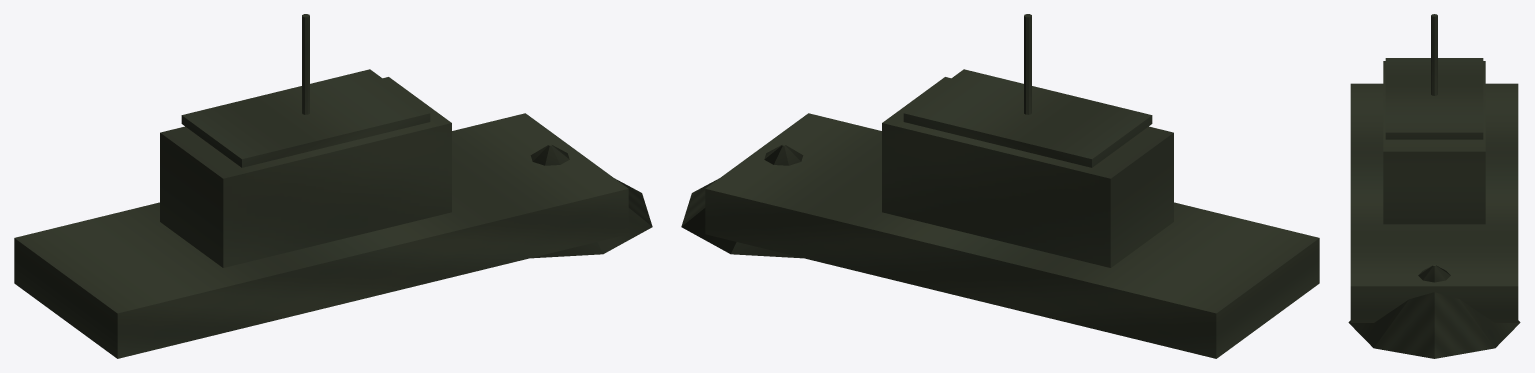
The model's file is veh_boat_patrol_a.glb.
3 renders of one model, left to right at view 1: azimuth 30°, elevation 25°; view 2: azimuth 150°, elevation 25°; view 3: azimuth 270°, elevation 25°, orthographic. The views are drawn at different scales.
Visible parts, largest first — view 1: veh_boat_patrol_a; view 2: veh_boat_patrol_a; view 3: veh_boat_patrol_a.
Boxes of the visible parts, bbox=[...] form: veh_boat_patrol_a: bbox=[14, 14, 652, 358]; veh_boat_patrol_a: bbox=[681, 14, 1319, 358]; veh_boat_patrol_a: bbox=[1348, 14, 1520, 358].
Size of the model in its own units: 5.57 by 2.39 by 1.78.
Materials: 1 (1 with a texture image).
